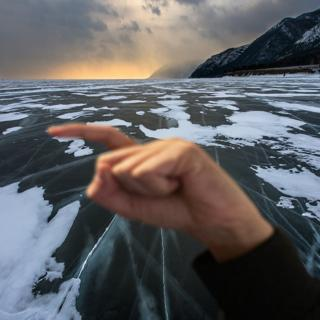WHY: (37, 115, 264, 248)
